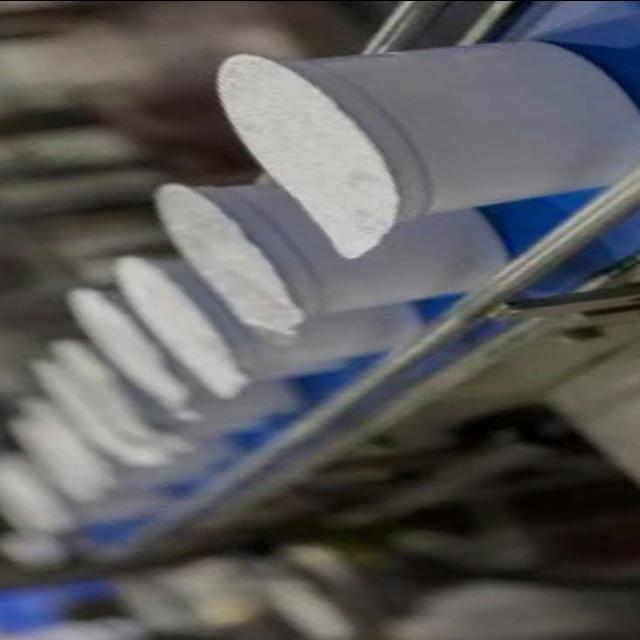food: (212, 38, 638, 260), (150, 178, 512, 342)
